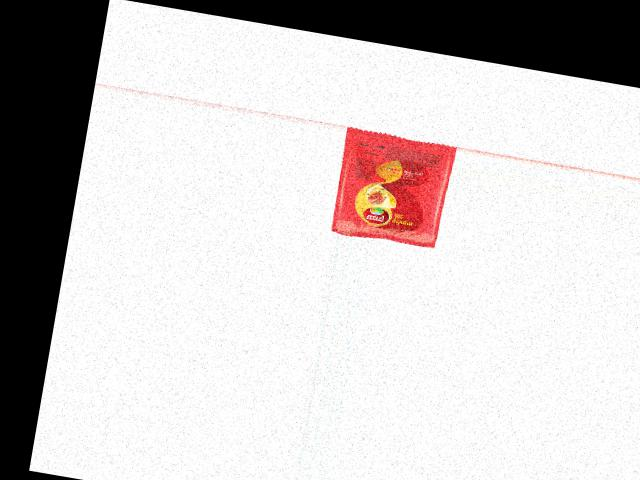cheese: (328, 125, 453, 249)
